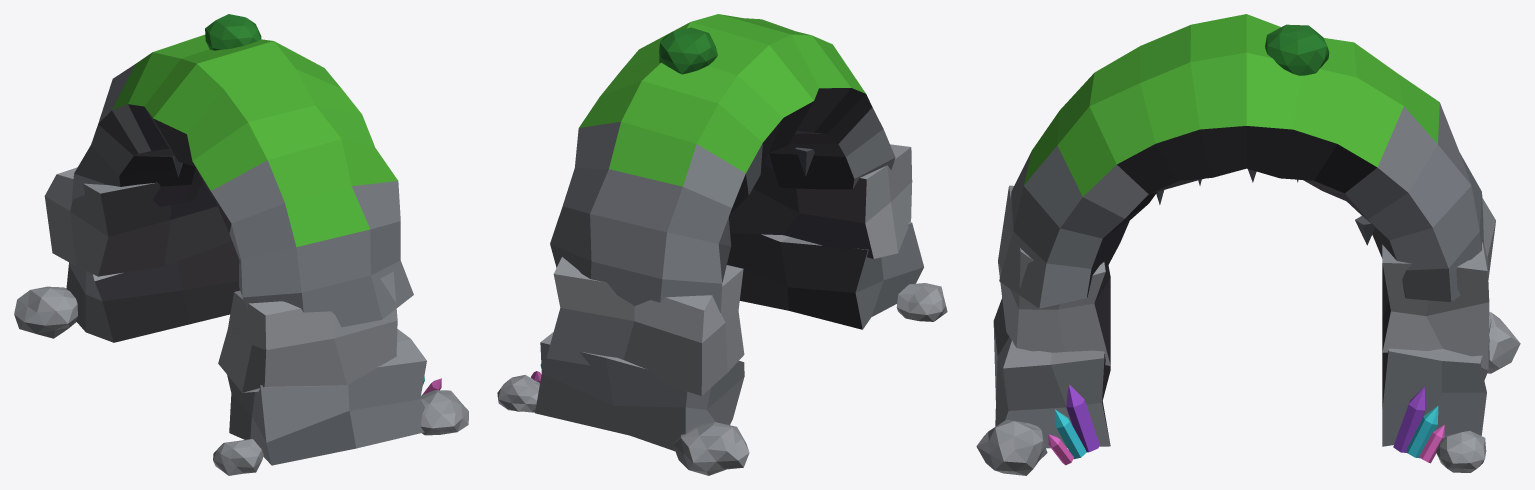
The model's file is cave_entrance.glb.
3 views of the same model, side by side, from view 1: azimuth 30°, elevation 25°; view 2: azimuth 150°, elevation 25°; view 3: azimuth 270°, elevation 25° (orthographic). The views are drawn at different scales.
Parts seen in each view (by area): view 1: cave_entrance; view 2: cave_entrance; view 3: cave_entrance.
Boxes of the visible parts, bbox=[...] form: cave_entrance: bbox=[14, 14, 468, 475]; cave_entrance: bbox=[497, 14, 947, 475]; cave_entrance: bbox=[976, 14, 1520, 475].
Size of the model in its own units: 5.75 by 7.67 by 9.62.
